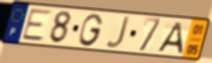7: (138, 16, 162, 55)
8: (48, 10, 73, 45)
A: (155, 20, 184, 56)
E: (20, 9, 54, 43)
G: (78, 12, 105, 48)
J: (105, 16, 132, 50)
